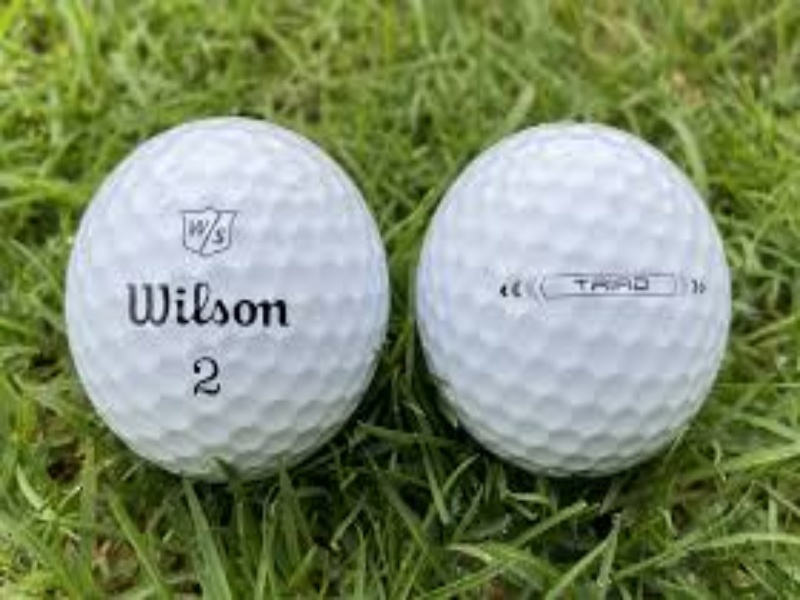golf_ball: (65, 117, 391, 482), (416, 120, 731, 482)
